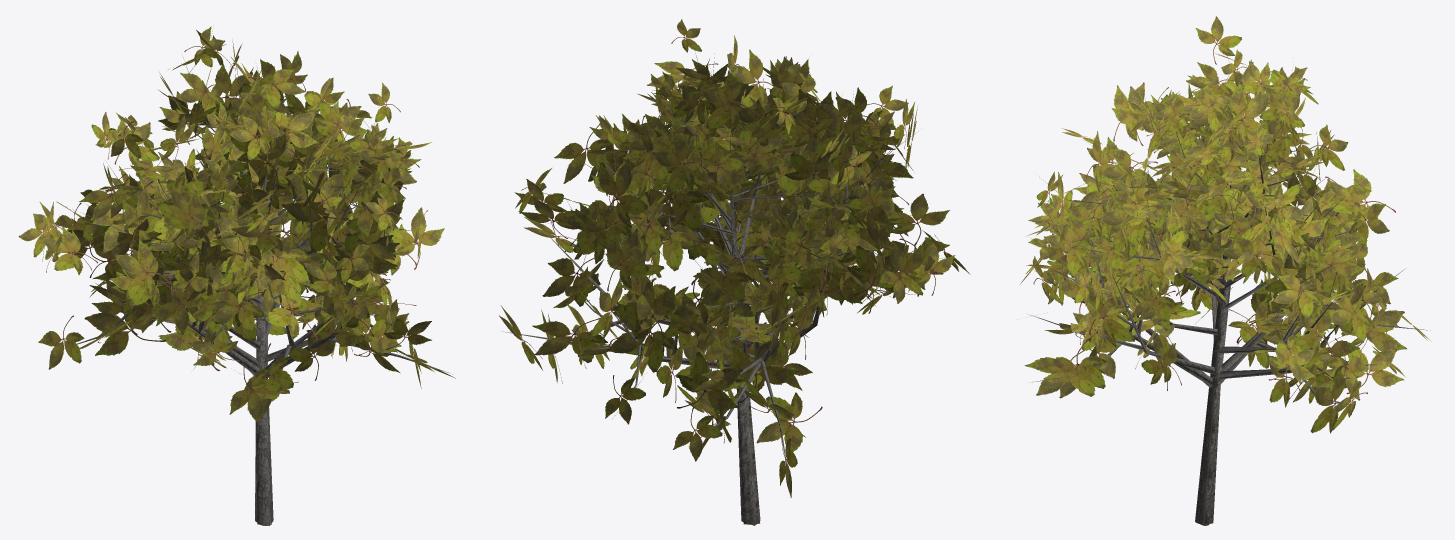
Rendered from Tree.FBX.
The picture shows the model from 3 angles, left to right: view 1: azimuth 30°, elevation 25°; view 2: azimuth 150°, elevation 25°; view 3: azimuth 270°, elevation 25°; orthographic projection. The views are drawn at different scales.
Parts seen in each view (by area): view 1: Tree; view 2: Tree; view 3: Tree.
Boxes of the visible parts, left/top/right/bottom form: Tree: left=18, top=26, right=455, bottom=525; Tree: left=499, top=19, right=970, bottom=525; Tree: left=1020, top=16, right=1430, bottom=525.
Size of the model in its own units: 306 by 349 by 295.
2 materials, 2 textured.
